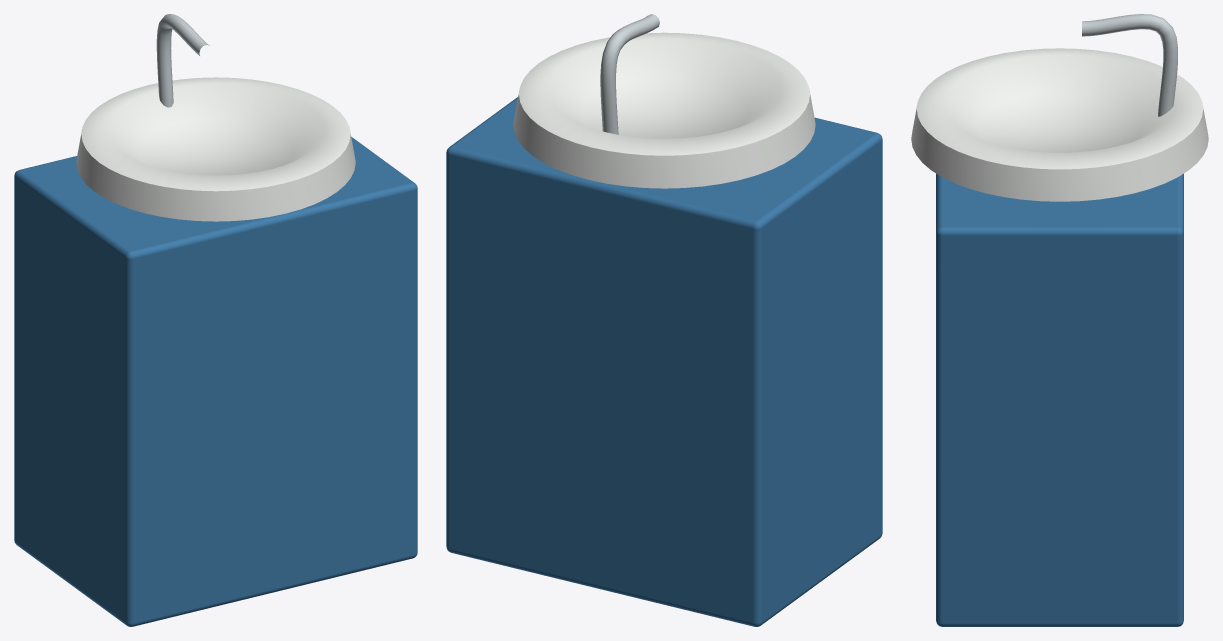
File: squash-club-and-racket-workshop-washbasin-84eb8ca8__29772.glb
The picture shows the model from 3 angles, left to right: view 1: azimuth 30°, elevation 25°; view 2: azimuth 150°, elevation 25°; view 3: azimuth 270°, elevation 25°; orthographic projection. The views are drawn at different scales.
Visible parts, largest first — view 1: washbasin; view 2: washbasin; view 3: washbasin.
Boxes of the visible parts, x1,y1,x2,y2 form: washbasin: (14, 14, 417, 626); washbasin: (446, 14, 882, 626); washbasin: (911, 14, 1208, 626).
Bounding box in the file's own units: 0.65 × 1.08 × 0.54.
